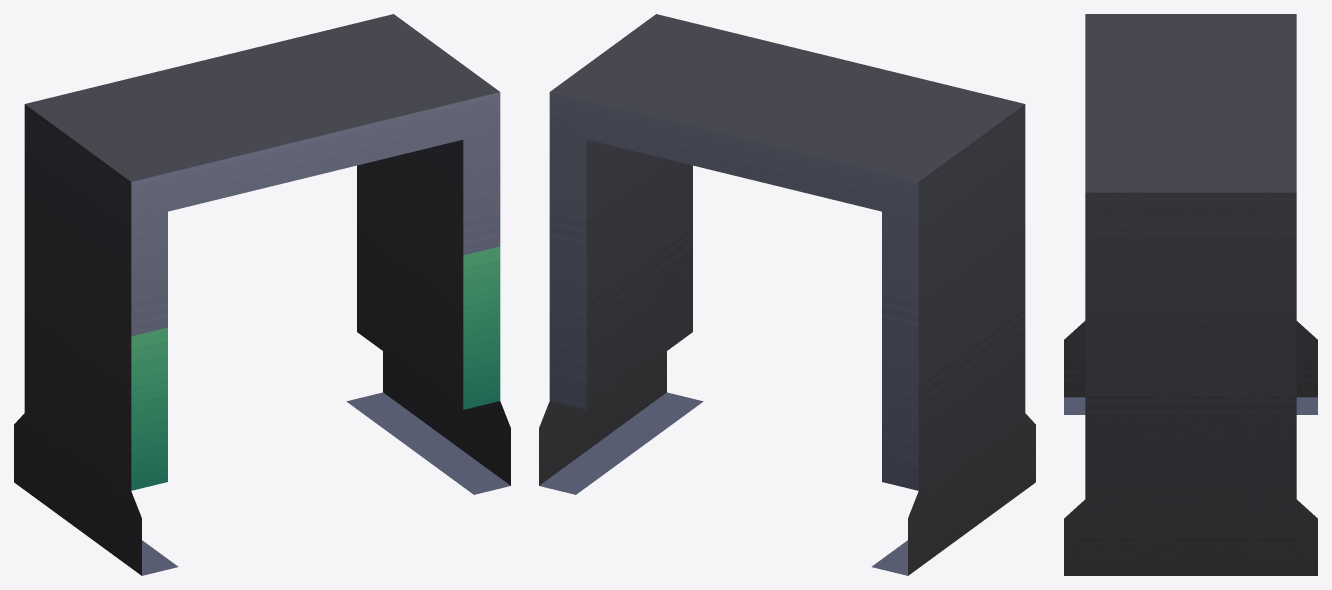
File: group.001_lev2.glb
3 views of the same model, side by side, from view 1: azimuth 30°, elevation 25°; view 2: azimuth 150°, elevation 25°; view 3: azimuth 270°, elevation 25° (orthographic).
Parts seen in each view (by area): view 1: group.001_lev2; view 2: group.001_lev2; view 3: group.001_lev2.
Boxes of the visible parts, x1,y1,x2,y2 form: group.001_lev2: [14, 14, 510, 575]; group.001_lev2: [539, 14, 1035, 575]; group.001_lev2: [1064, 14, 1317, 575].
Bounding box in the file's own units: 5 × 5 × 3.
Materials: 1 (1 with a texture image).
